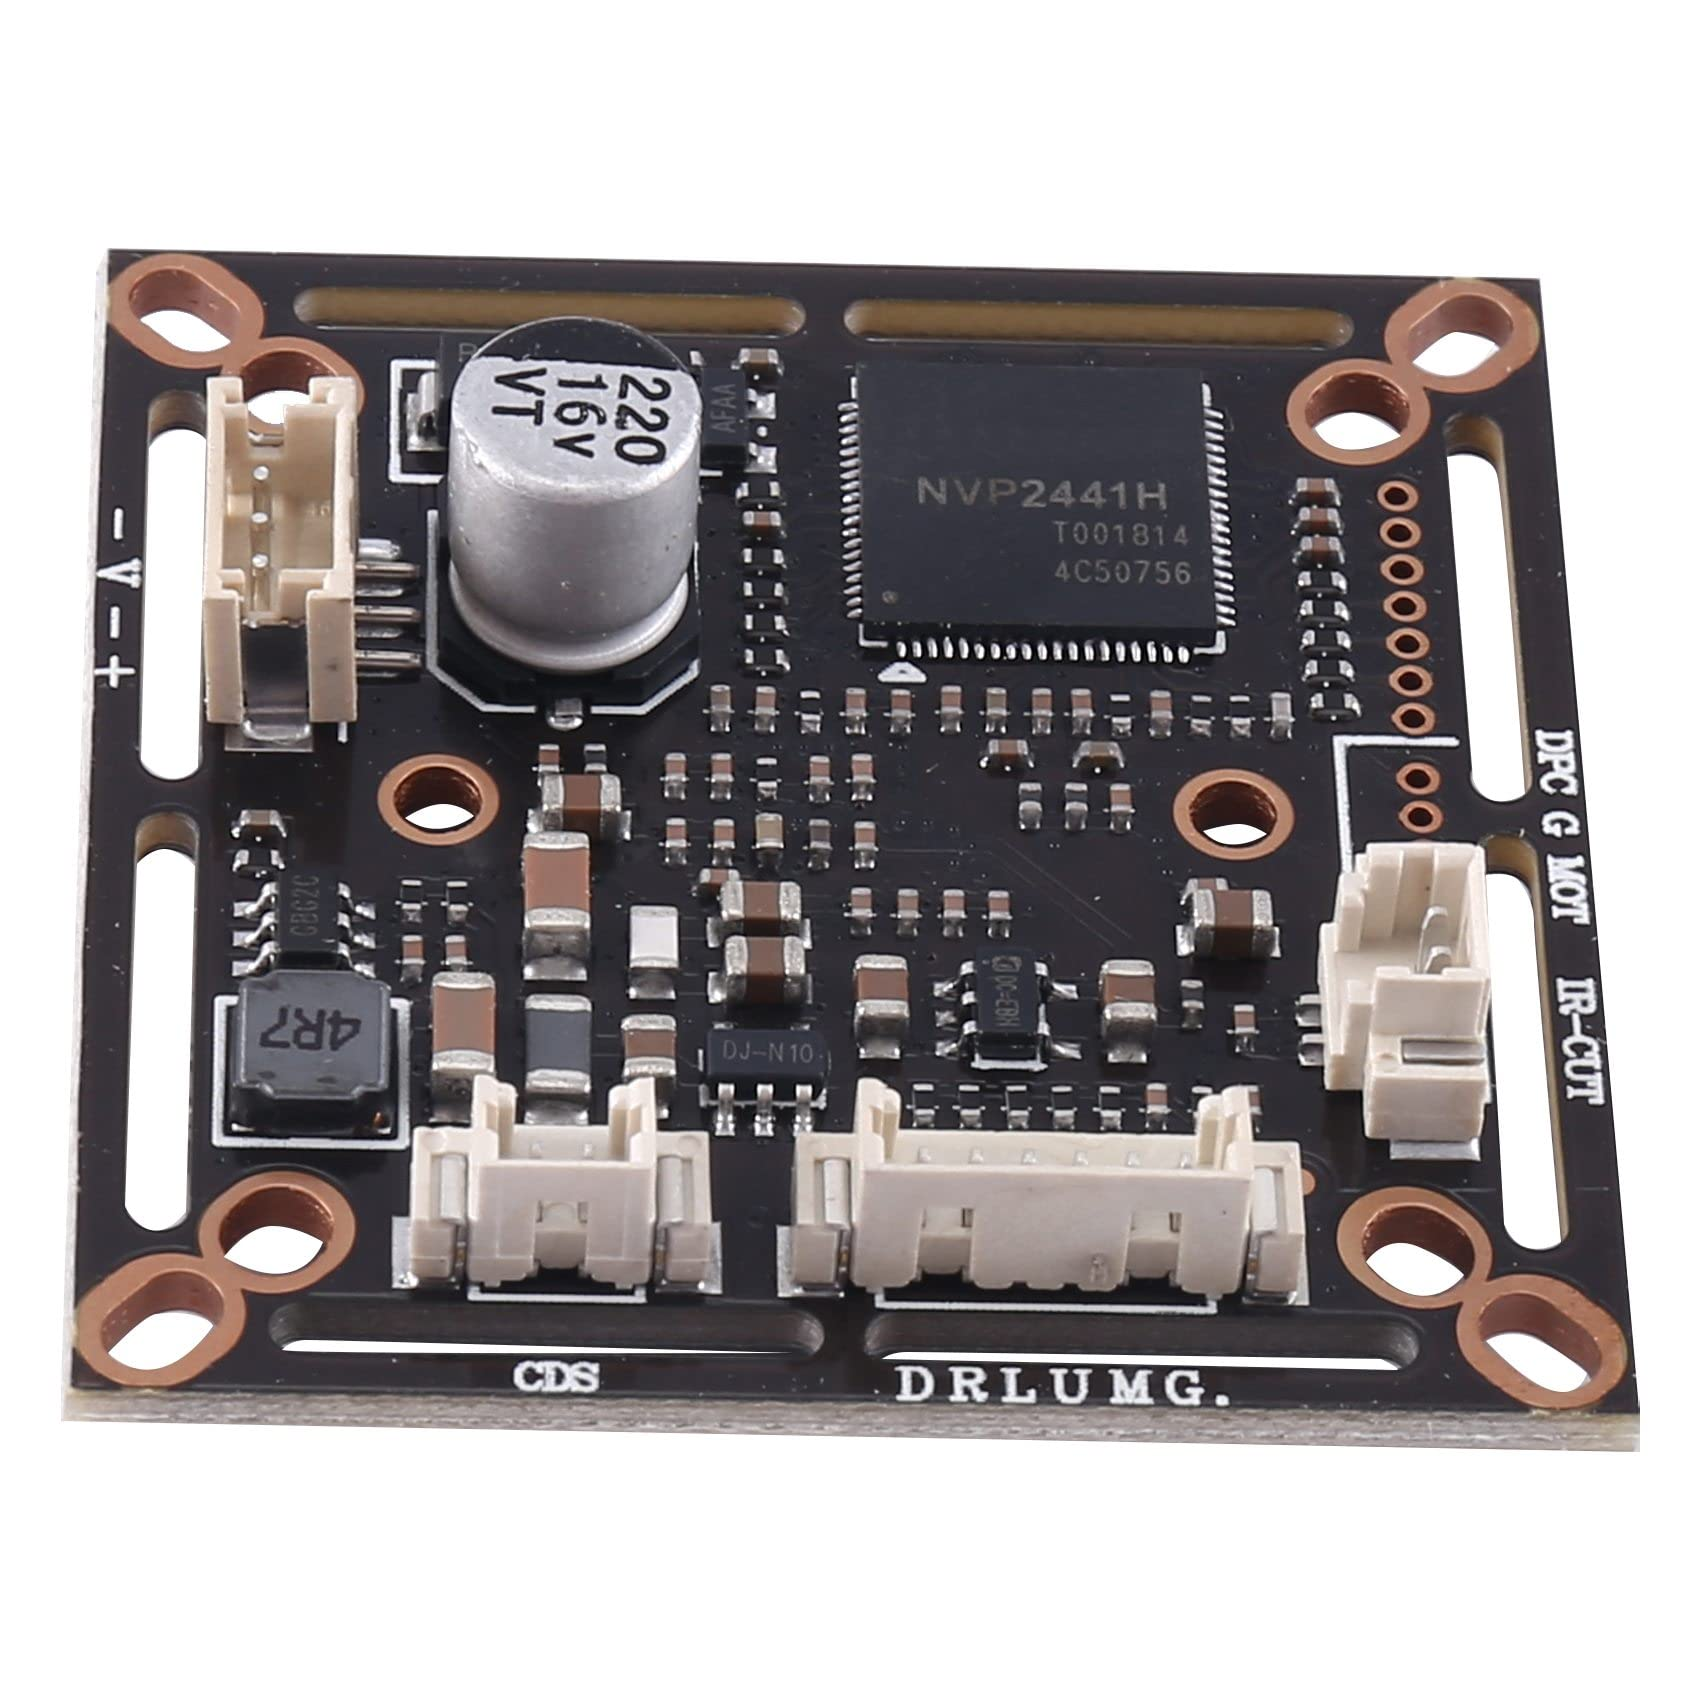Induktor: (226, 961, 394, 1136)
